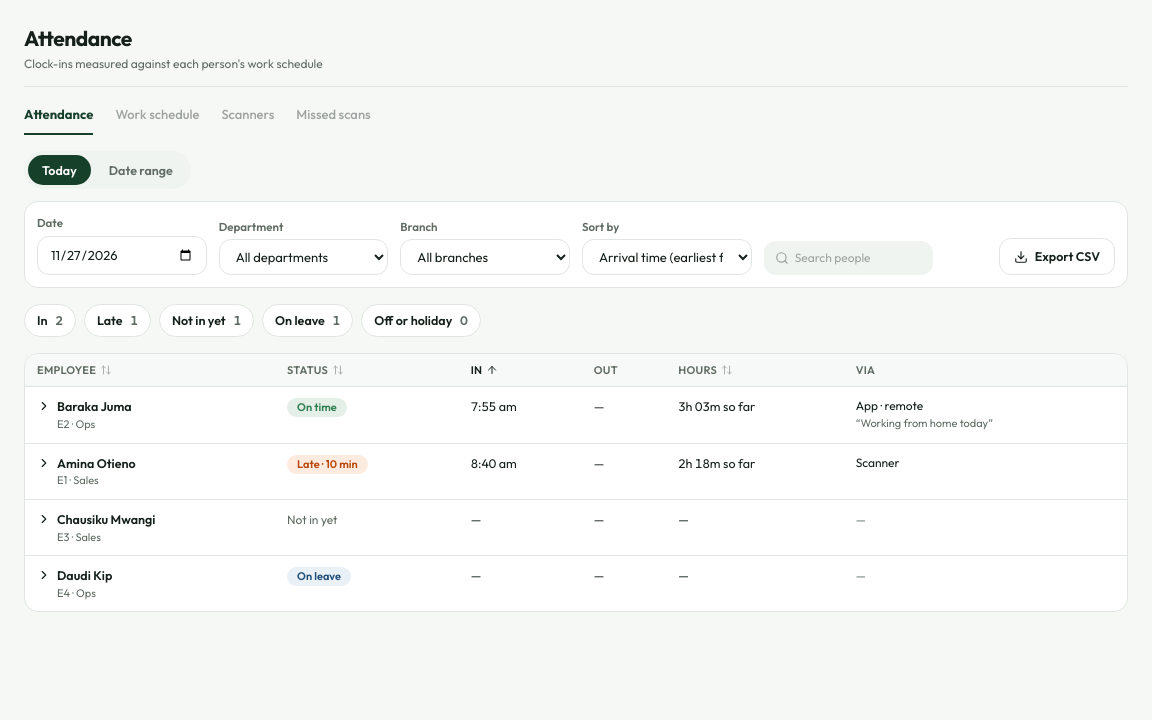
it: Attendance: the Today view (FIG-1203) › keeps the range summary one click away
Expected: the text "Amina Otieno" is shown, [57,454,136,472]
Click the button "Date range". click: (141, 170)
box: [95,154,187,185]
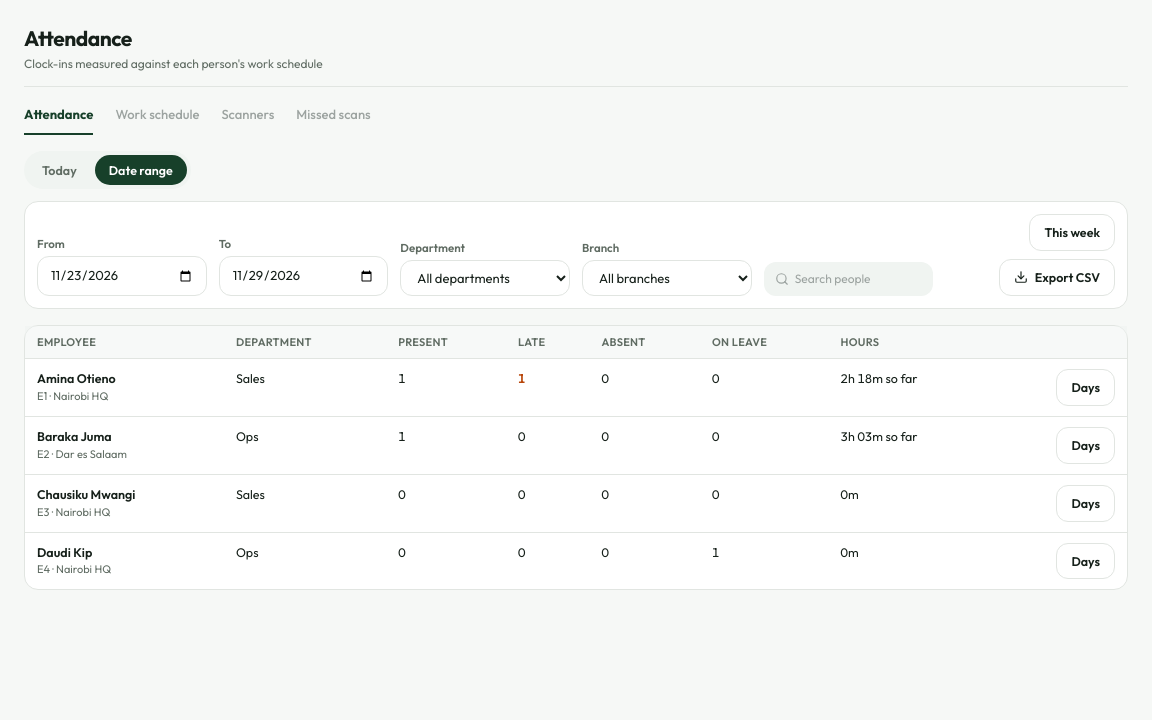
Expected: the button with aria-label "Open days for Amina Otieno" is shown, [1056,369,1115,406]
